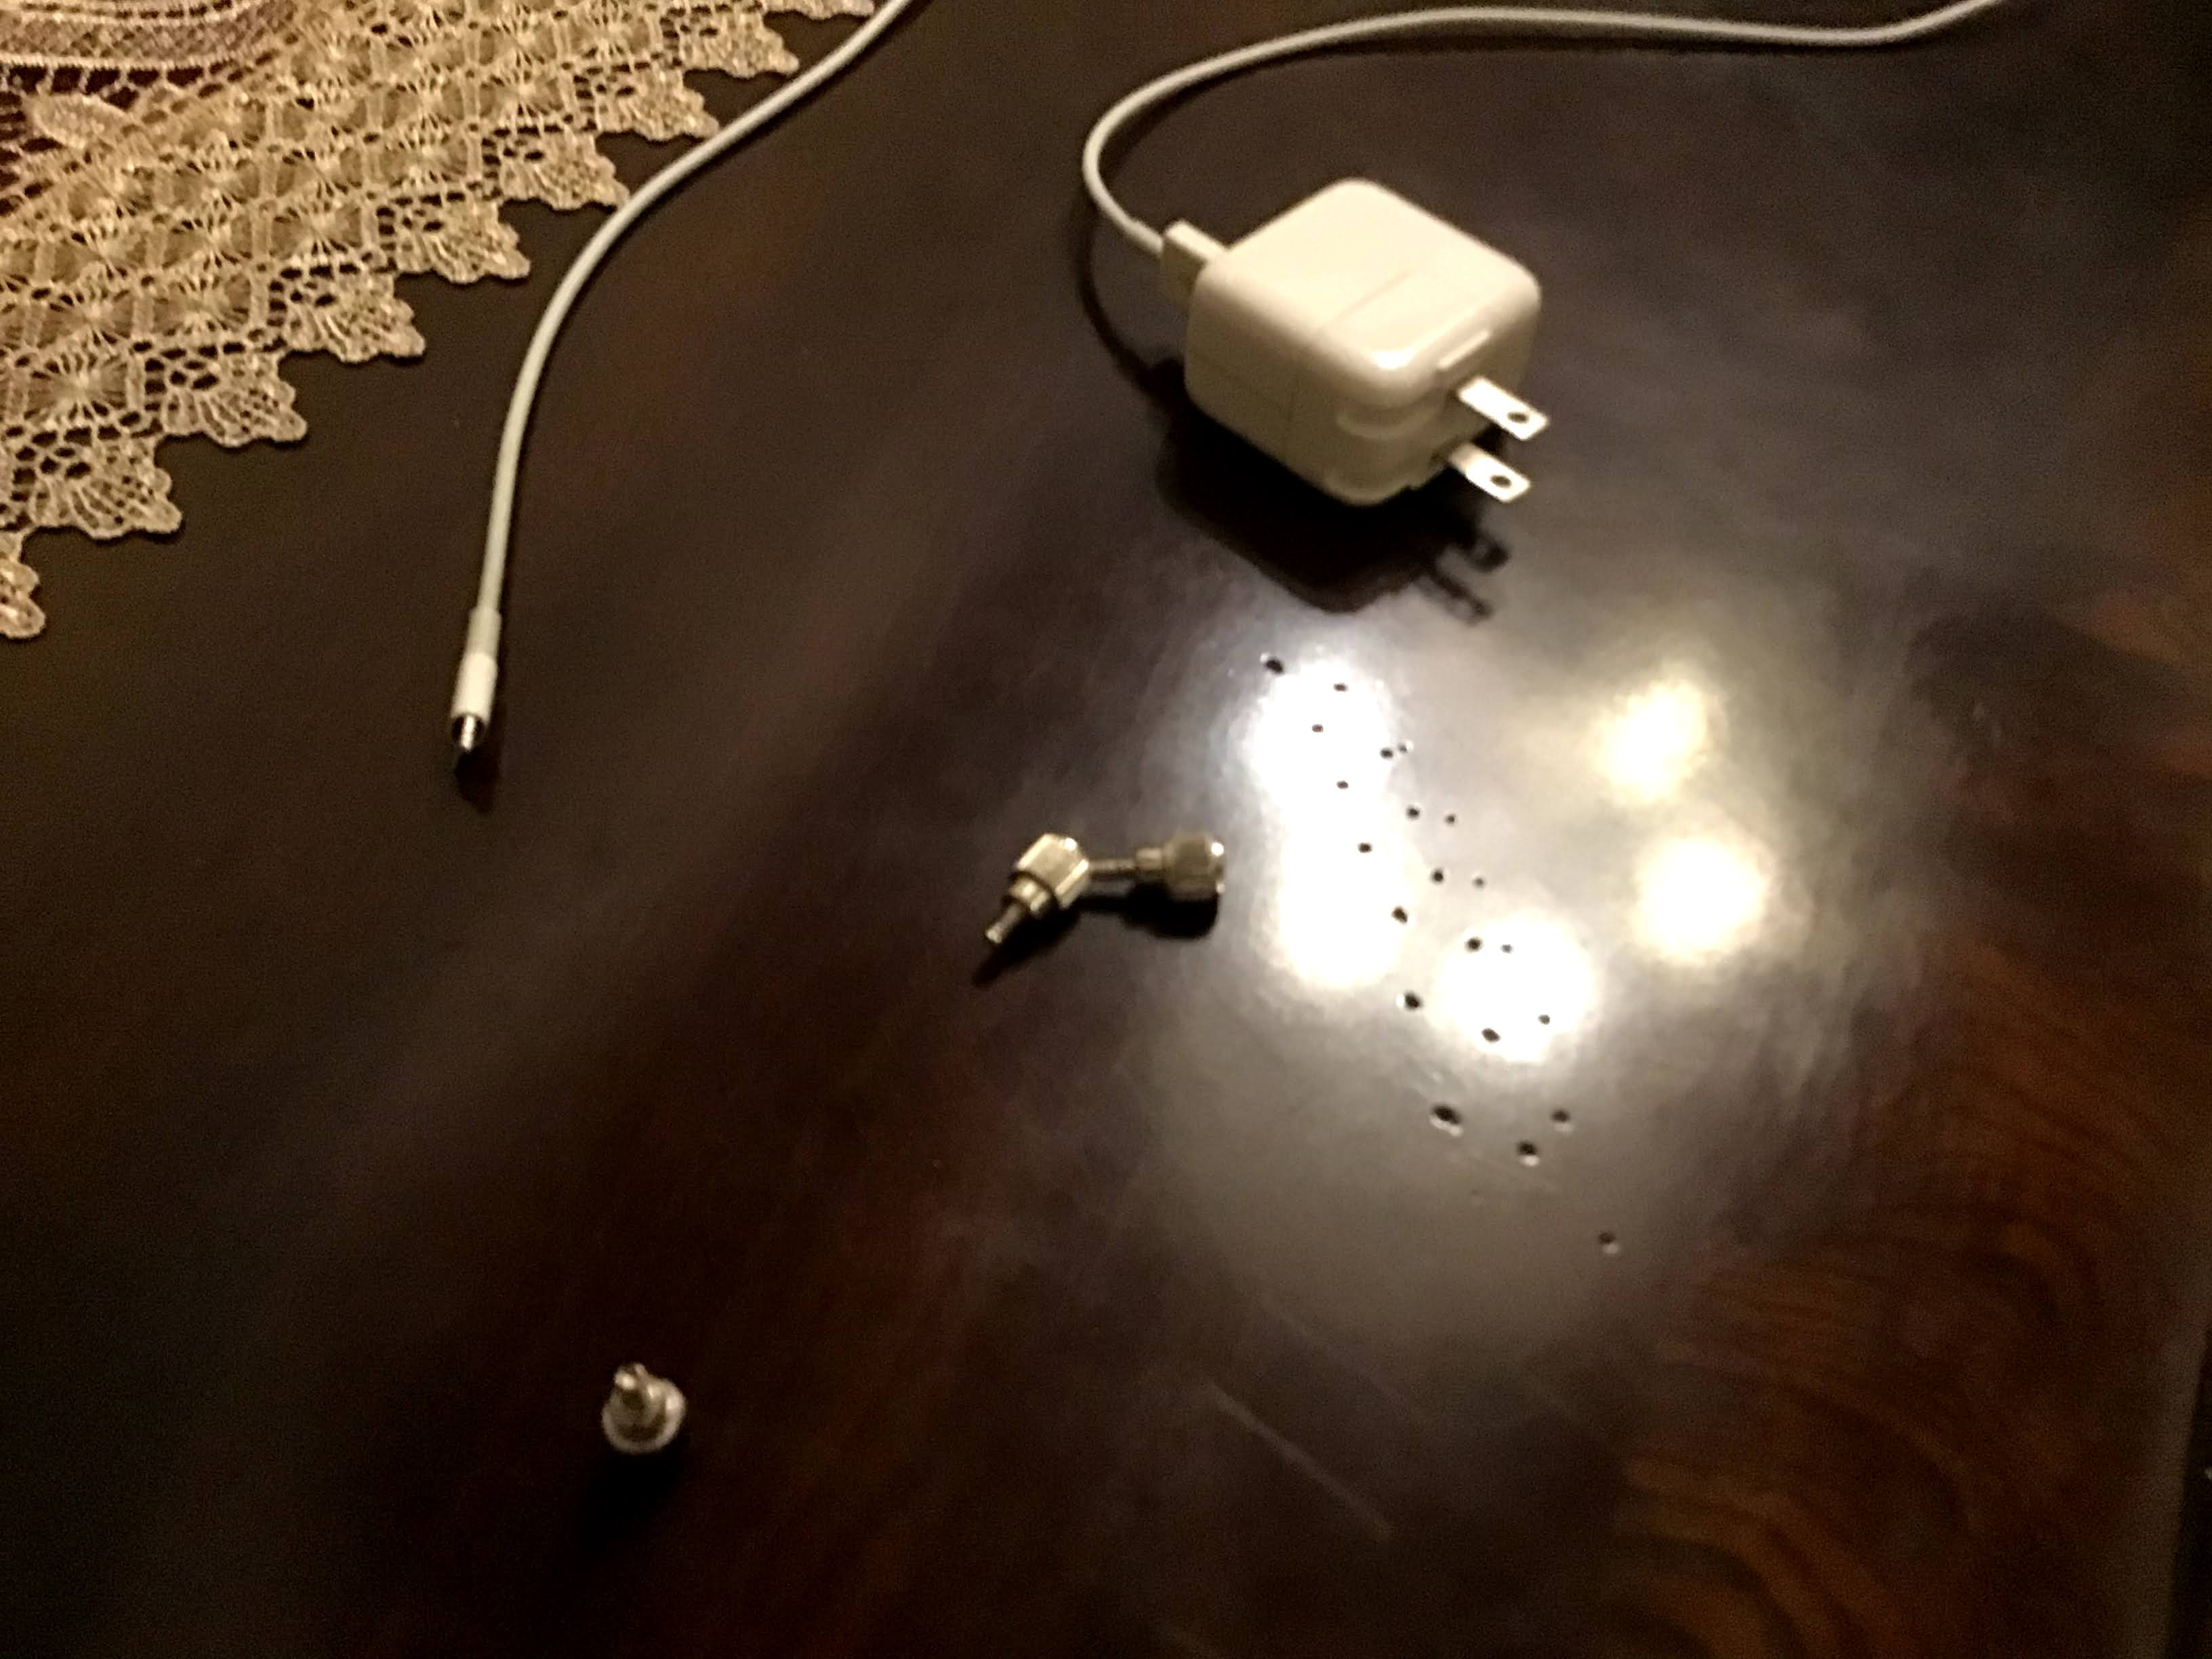Space-debris-small: (977, 826, 1090, 950), (583, 1356, 697, 1469), (1089, 821, 1231, 904)
